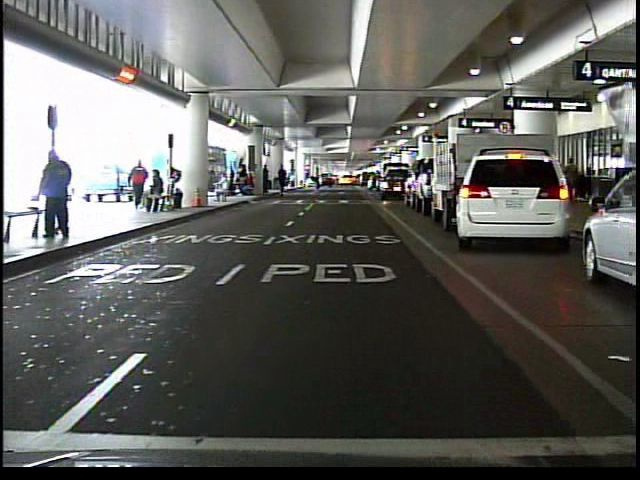person: (38, 145, 80, 244), (212, 170, 232, 206), (309, 164, 324, 194)
